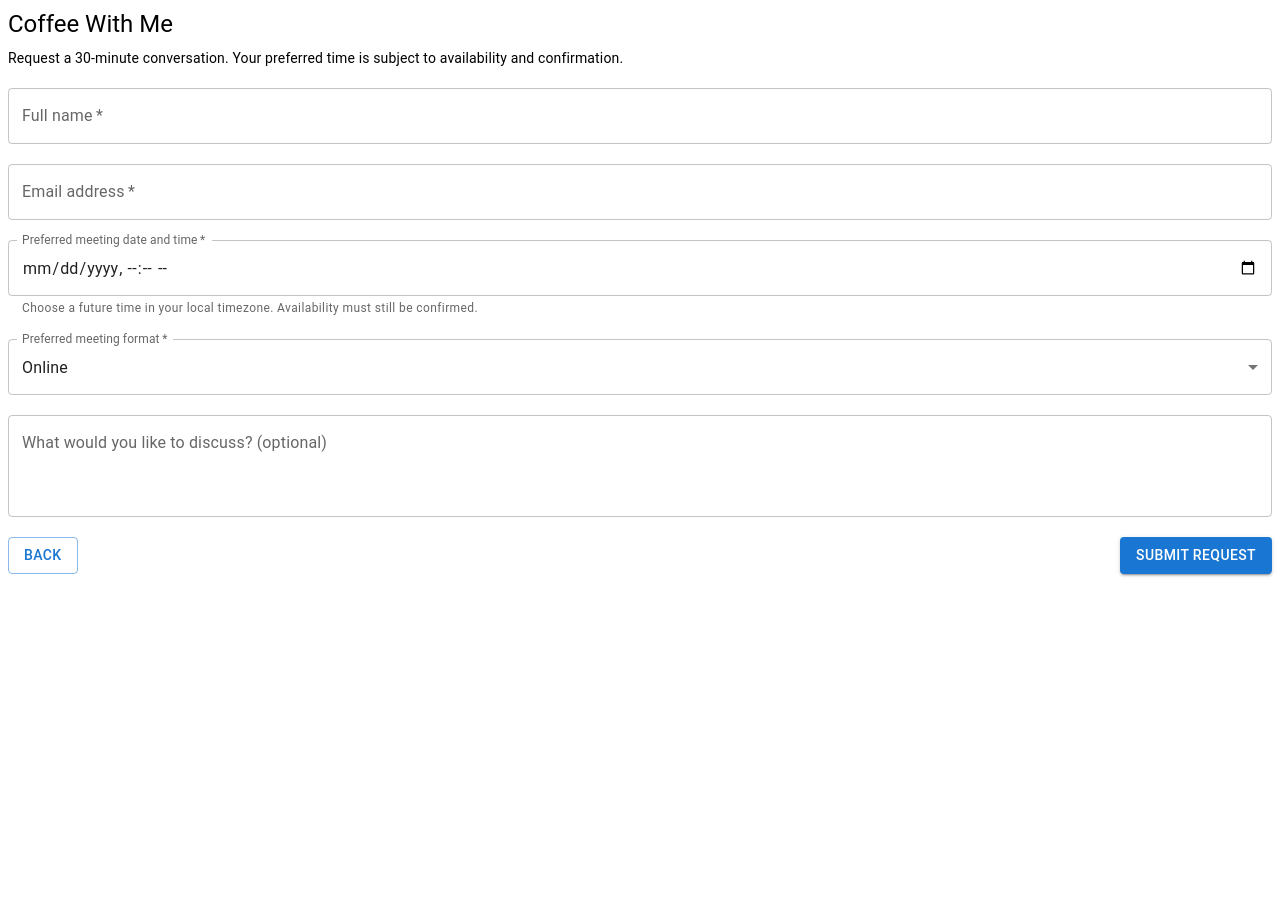
it: CoffeeWithMeForm › shows a validation error when the name is too short
The width and height of the screenshot is (1280, 900).
In the field labelled "Full name *": (640, 116) x1=8 y1=88 x2=1272 y2=144, type "A"
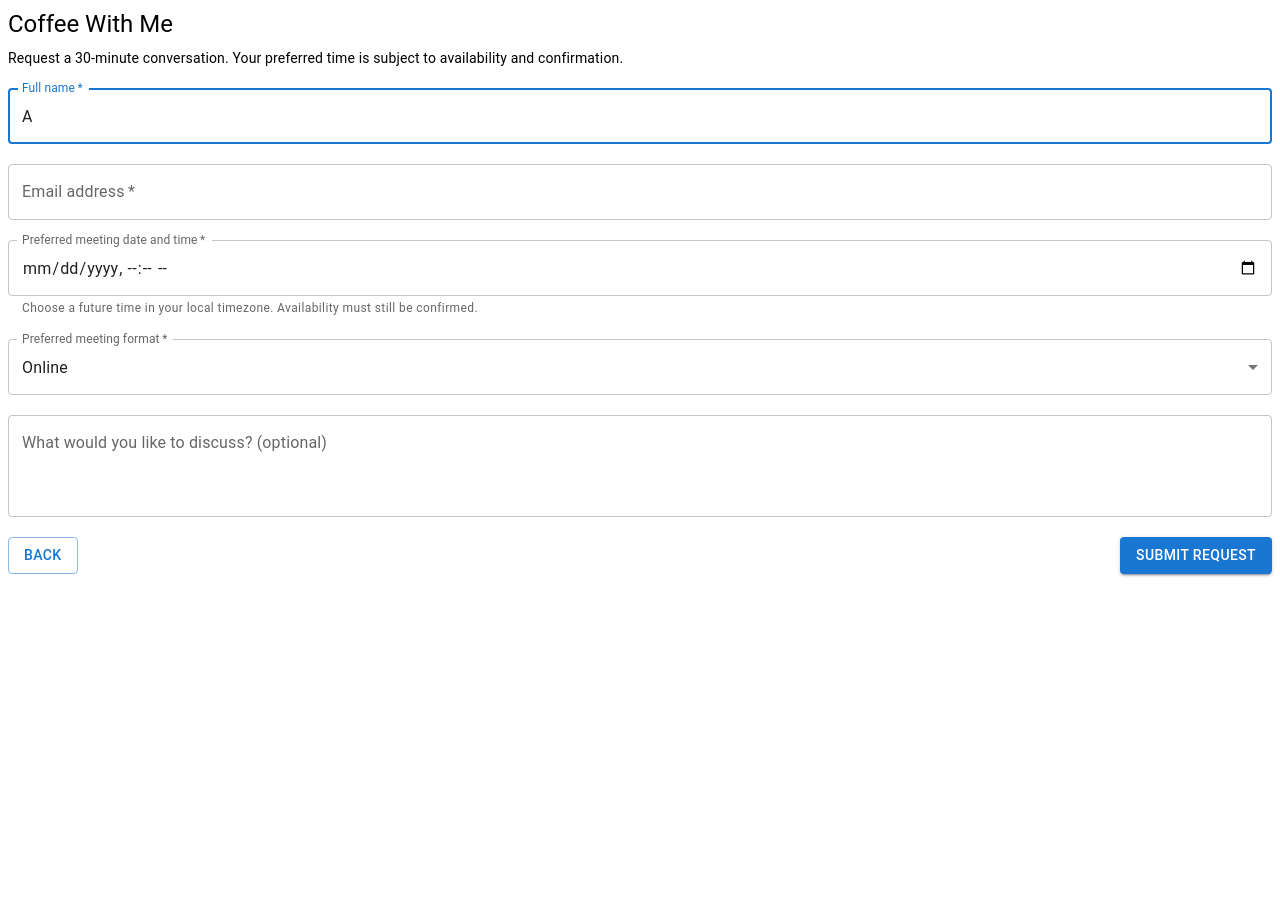
Click the button "Submit request": (1196, 556) x1=1120 y1=537 x2=1272 y2=574
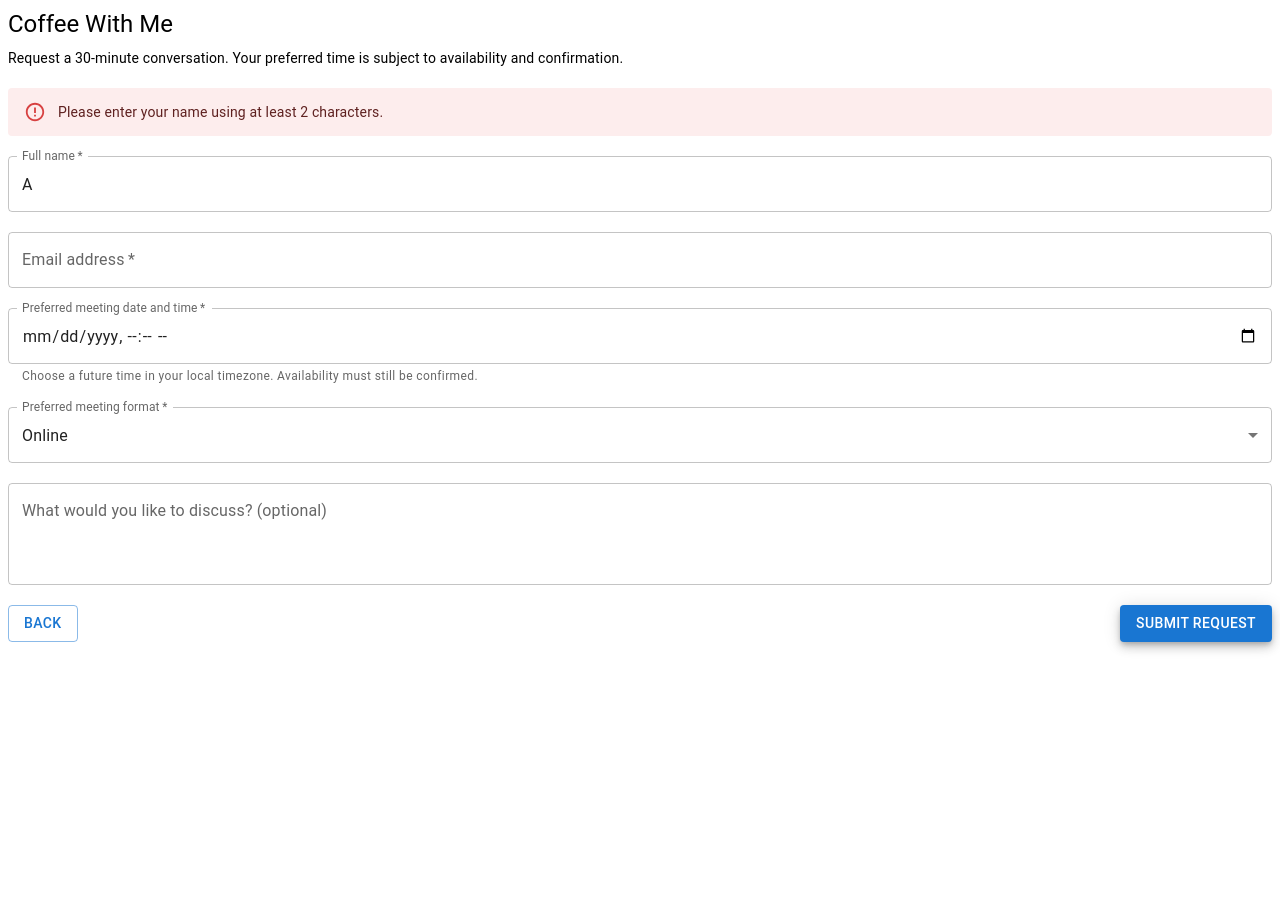
Check: the message shows "at least 2 characters", box x1=58 y1=104 x2=383 y2=120
